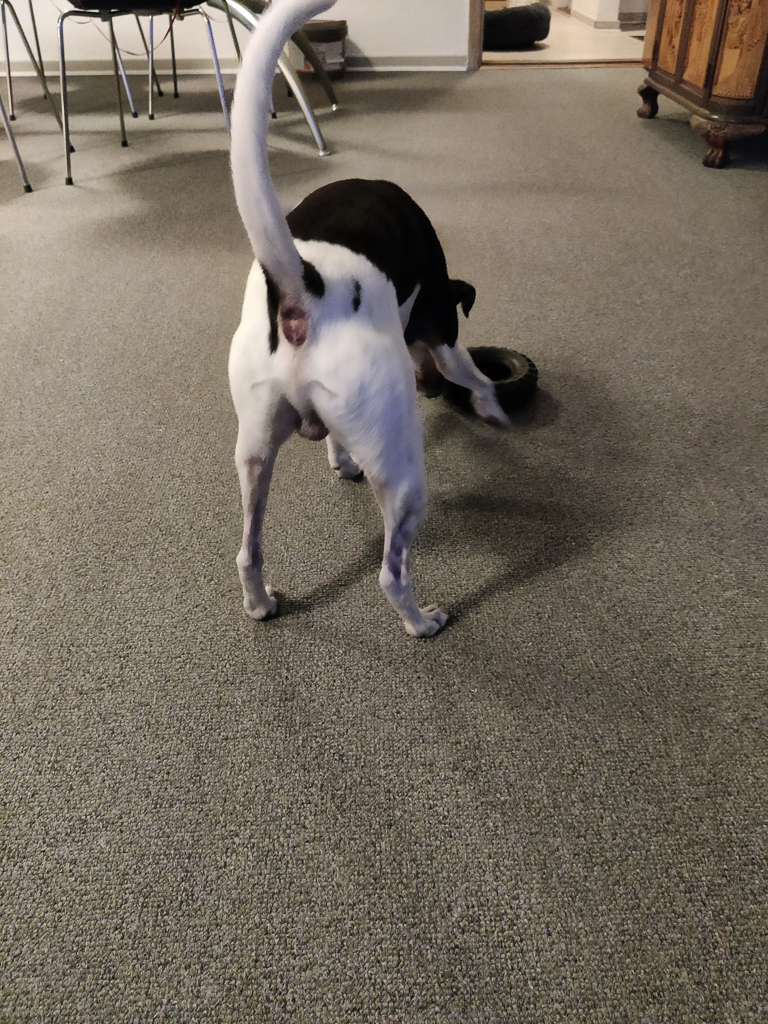Dog: (208, 2, 529, 653)
